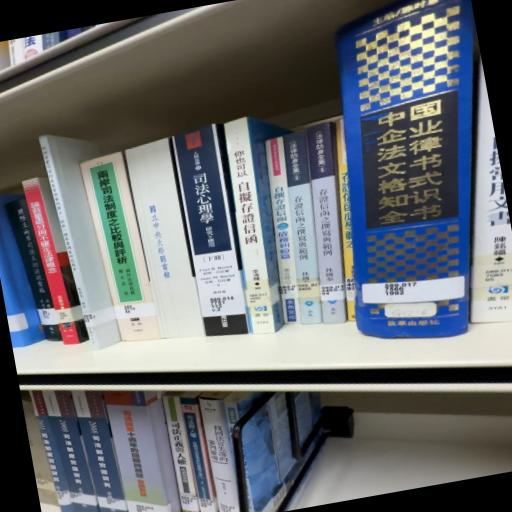backward: (122, 139, 205, 349)
book: (214, 114, 324, 342), (171, 126, 254, 347), (42, 126, 136, 320), (82, 151, 156, 314)
